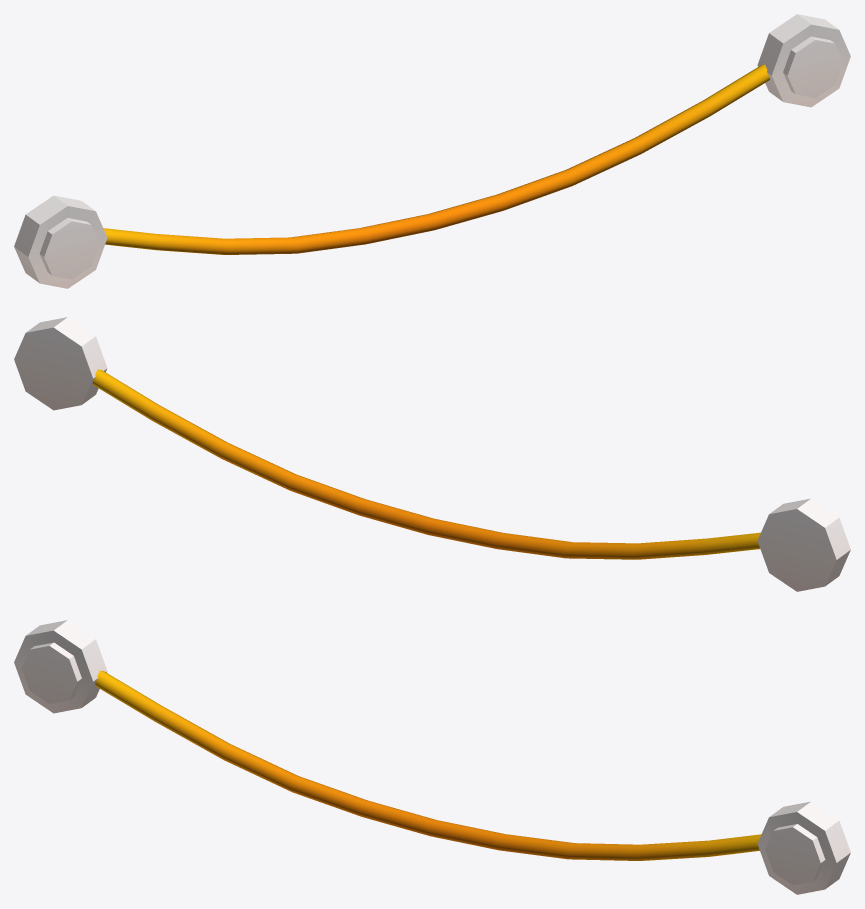
The picture shows the model from 3 angles, top to bottom: view 1: azimuth 30°, elevation 25°; view 2: azimuth 150°, elevation 25°; view 3: azimuth 330°, elevation 25°; orthographic projection.
Visible parts, largest first — view 1: lv5; view 2: lv5; view 3: lv5.
Boxes of the visible parts, x1,y1,x2,y2 form: lv5: (14,14,850,288); lv5: (14,317,850,591); lv5: (14,620,850,894).
Size of the model in its own units: 44.31 by 6.24 by 1.71.
Materials: 1 (1 with a texture image).
